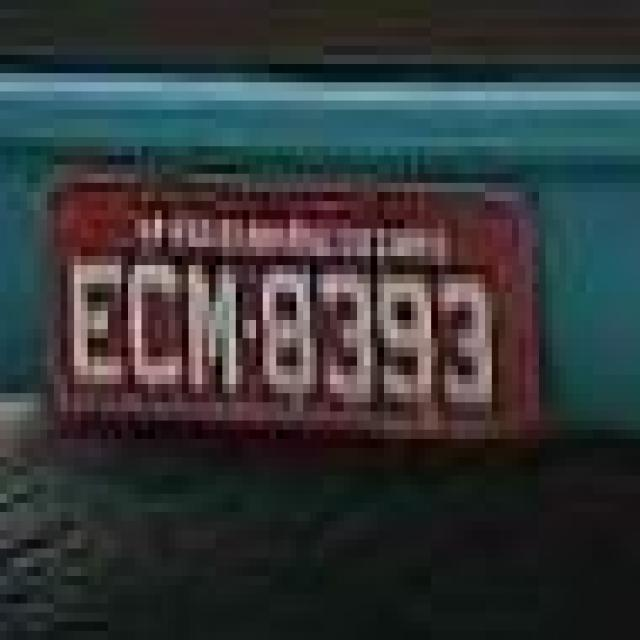3: (436, 263, 499, 420), (319, 258, 376, 416)
8: (256, 255, 316, 410)
9: (378, 264, 438, 420)
C: (125, 250, 185, 403)
E: (72, 258, 124, 396)
M: (186, 250, 238, 405)
